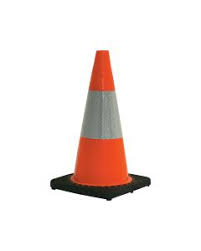cones: (47, 48, 154, 202)
